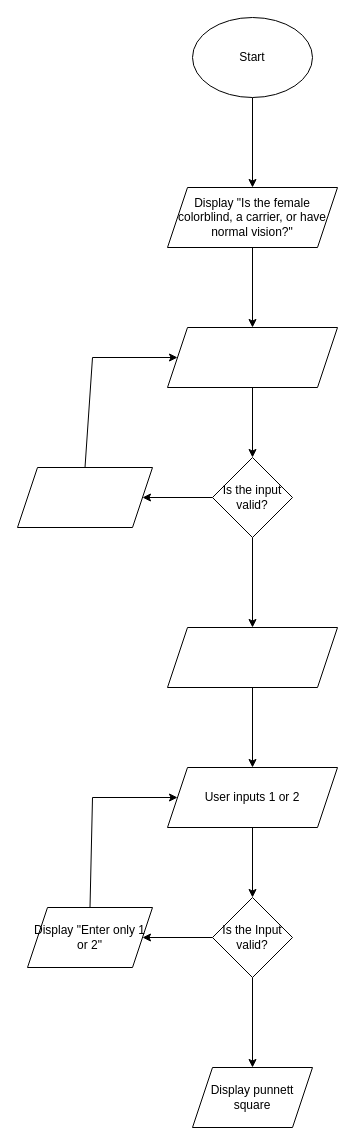
Image size: 355x1145. Some labels were removed from this diagram. The centre of each missing label's shape, as x and y in pixels:
Display "Enter only 1,2, or 3": (84,497)
Display "Is the male colorblind or have normal vision?": (252,657)
User inputs 1,2, or 3: (252,357)
